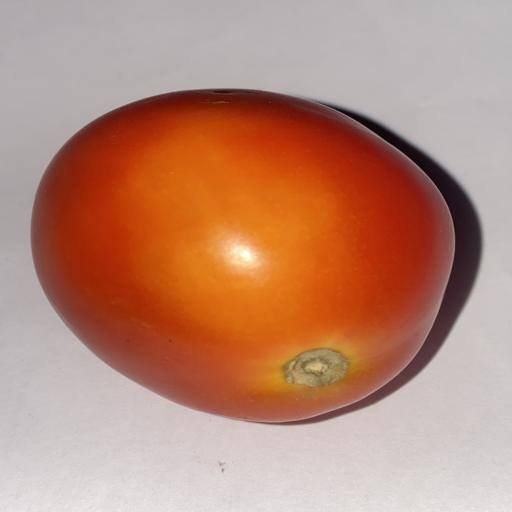ripe: (31, 89, 454, 422)
